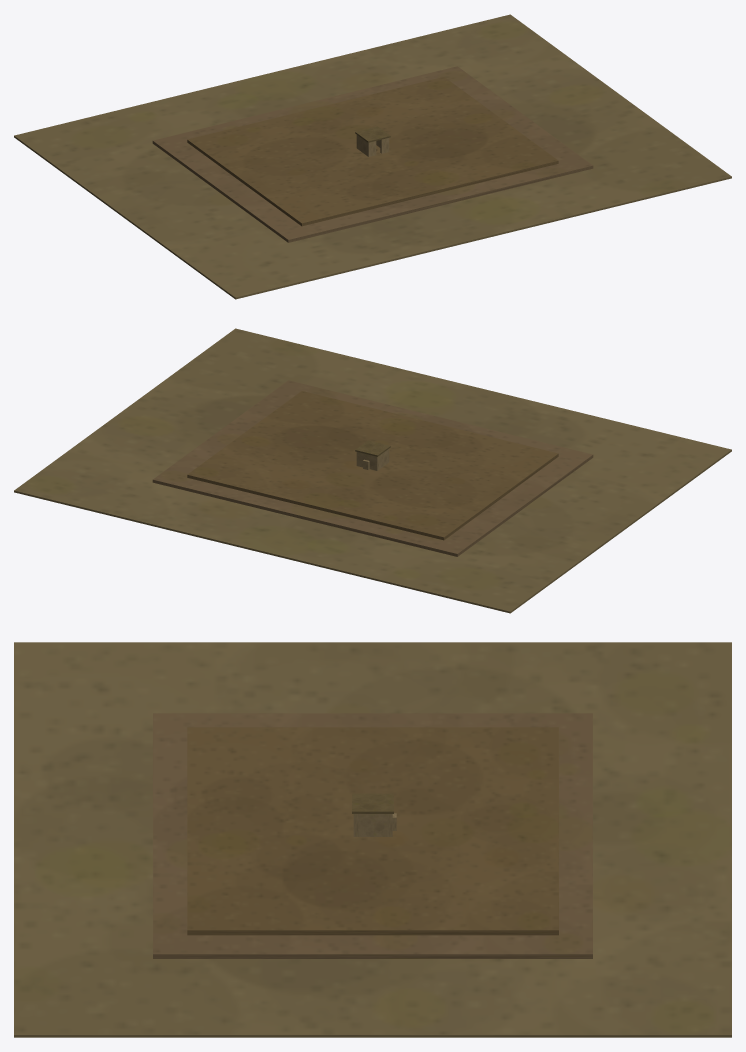
Rendered from ziggurat-b15.glb.
The picture shows the model from 3 angles, top to bottom: view 1: azimuth 30°, elevation 25°; view 2: azimuth 150°, elevation 25°; view 3: azimuth 270°, elevation 25°; orthographic projection. The views are drawn at different scales.
Bounding box in the file's own units: 17.6 × 0.8114 × 13.6.
5 materials, 5 textured.
